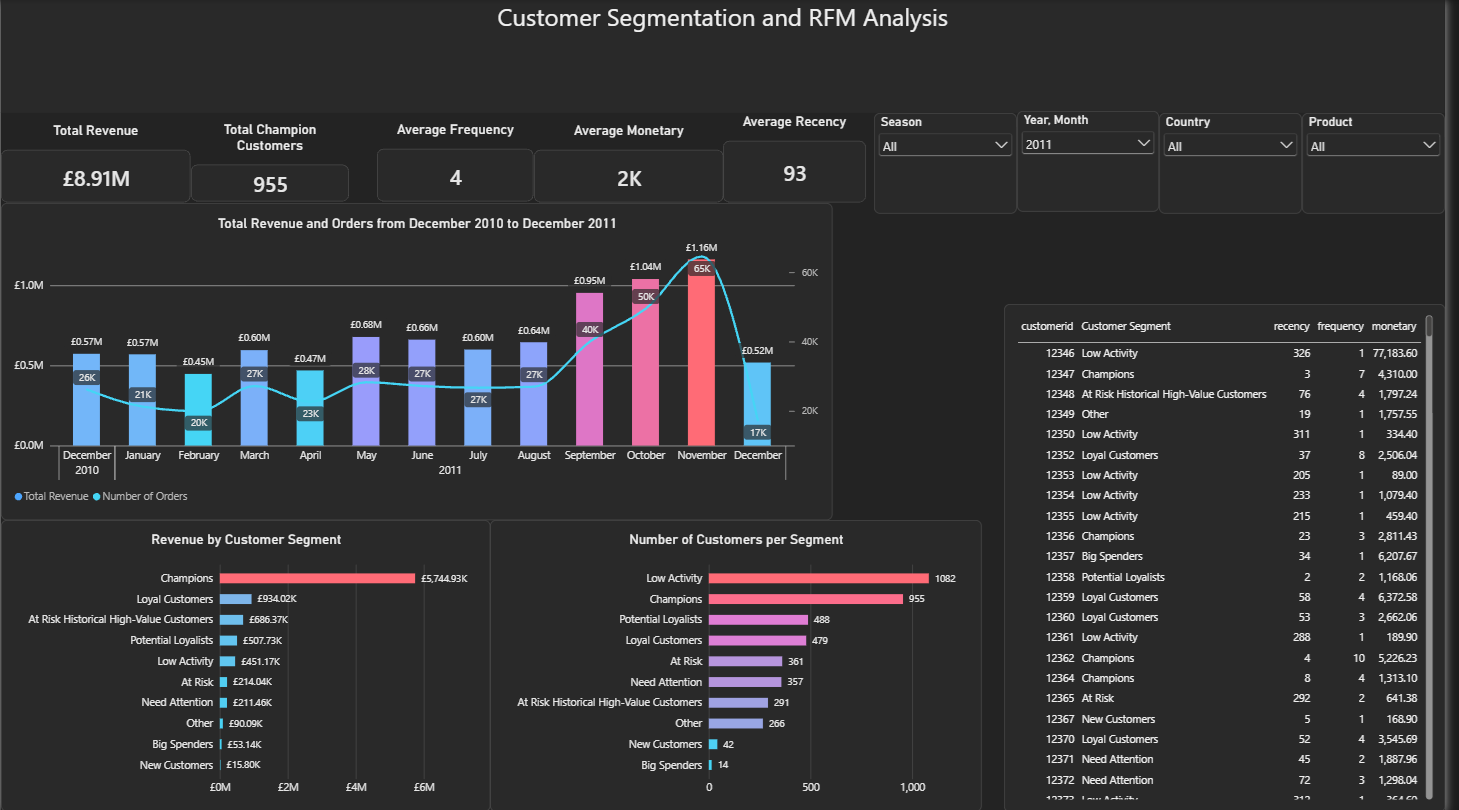

What the dashboard file says about the page in this screenshot:
{"tool":"powerbi","page":{"name":"RFM Analysis","canvas":[1920,1080],"ordinal":1},"visuals":[{"type":"cardVisual","title":"Total Revenue","fields":{"Data":["_measures.revenue"]},"box":[0,161.9,252.4,108],"z":0},{"type":"cardVisual","title":"Average Recency","fields":{"Data":["_measures.Average Recency"]},"box":[960.3,150.3,190.2,119.7],"z":1000},{"type":"cardVisual","title":"Average Frequency","fields":{"Data":["_measures.Average Frequency"]},"box":[500.1,160.9,208.8,107.7],"z":2000},{"type":"cardVisual","title":"Average Monetary","fields":{"Data":["_measures.Average Monetary"]},"box":[708.9,162.3,252.4,108],"z":3000},{"type":"tableEx","fields":{"Values":["analysis_snapshot.customerid","analysis_snapshot.Customer Segment","analysis_snapshot.recency","analysis_snapshot.frequency","analysis_snapshot.monetary"]},"box":[1333.5,404.1,586.5,675.5],"z":4000},{"type":"lineStackedColumnComboChart","title":"Total Revenue and Orders from December 2010 to December 2011","fields":{"Category":["Sales_data.invoicedate.Variation.Date Hierarchy.Year","Sales_data.invoicedate.Variation.Date Hierarchy.Month"],"Y":["_measures.revenue"],"Y2":["CountNonNull(Sales_data.invoiceno)"]},"box":[0,269.9,1105.9,421.6],"z":8000},{"type":"barChart","title":"Number of Customers per Segment","fields":{"Category":["analysis_snapshot.Customer Segment"],"Y":["CountNonNull(analysis_snapshot.customerid)"]},"box":[650.7,691.6,653.6,388.1],"z":9000},{"type":"cardVisual","title":"Total Champion Customers","fields":{"Data":["_measures.Champion Customers"]},"box":[252.7,160.9,210.1,107.7],"z":10000},{"type":"barChart","title":"Revenue by Customer Segment","fields":{"Category":["analysis_snapshot.Customer Segment"],"Y":["_measures.revenue"]},"box":[0,691.6,650.7,388.1],"z":11000},{"type":"textbox","box":[0,0,1920,150.3],"z":12000},{"type":"slicer","fields":{"Values":["analysis_snapshot.analysis_date.Variation.Date Hierarchy.Year","analysis_snapshot.analysis_date.Variation.Date Hierarchy.Month"]},"box":[1351.3,147.6,189,134],"z":12001},{"type":"slicer","fields":{"Values":["Sales_data.country"]},"box":[1540.2,150.3,189.7,134.2],"z":12002},{"type":"slicer","fields":{"Values":["Sales_data.description"]},"box":[1730.4,150.3,189.7,134.2],"z":12003},{"type":"slicer","fields":{"Values":["Sales_data.Season"]},"box":[1161.1,150.3,189.7,134.2],"z":12004}]}

Visuals, with their boxes in screenshot pixels (x1, y1, x2, y2), scaled from the page's 1920x1080 canvas onto the 1459x810 screenshot:
"Total Revenue" cardVisual: [x1=0, y1=121, x2=192, y2=202]
"Average Recency" cardVisual: [x1=730, y1=113, x2=874, y2=202]
"Average Frequency" cardVisual: [x1=380, y1=121, x2=539, y2=201]
"Average Monetary" cardVisual: [x1=539, y1=122, x2=730, y2=203]
tableEx - analysis_snapshot.customerid x analysis_snapshot.Customer Segment: [x1=1013, y1=303, x2=1458, y2=809]
"Total Revenue and Orders from December 2010 to December 2011" lineStackedColumnComboChart: [x1=0, y1=202, x2=840, y2=519]
"Number of Customers per Segment" barChart: [x1=494, y1=519, x2=991, y2=809]
"Total Champion Customers" cardVisual: [x1=192, y1=121, x2=352, y2=201]
"Revenue by Customer Segment" barChart: [x1=0, y1=519, x2=494, y2=809]
textbox: [x1=0, y1=0, x2=1458, y2=113]
slicer - analysis_snapshot.analysis_date.Variation.Date Hierarchy.Year x analysis_snapshot.analysis_date.Variation.Date Hierarchy.Month: [x1=1027, y1=111, x2=1170, y2=211]
slicer - Sales_data.country: [x1=1170, y1=113, x2=1315, y2=213]
slicer - Sales_data.description: [x1=1315, y1=113, x2=1458, y2=213]
slicer - Sales_data.Season: [x1=882, y1=113, x2=1026, y2=213]
